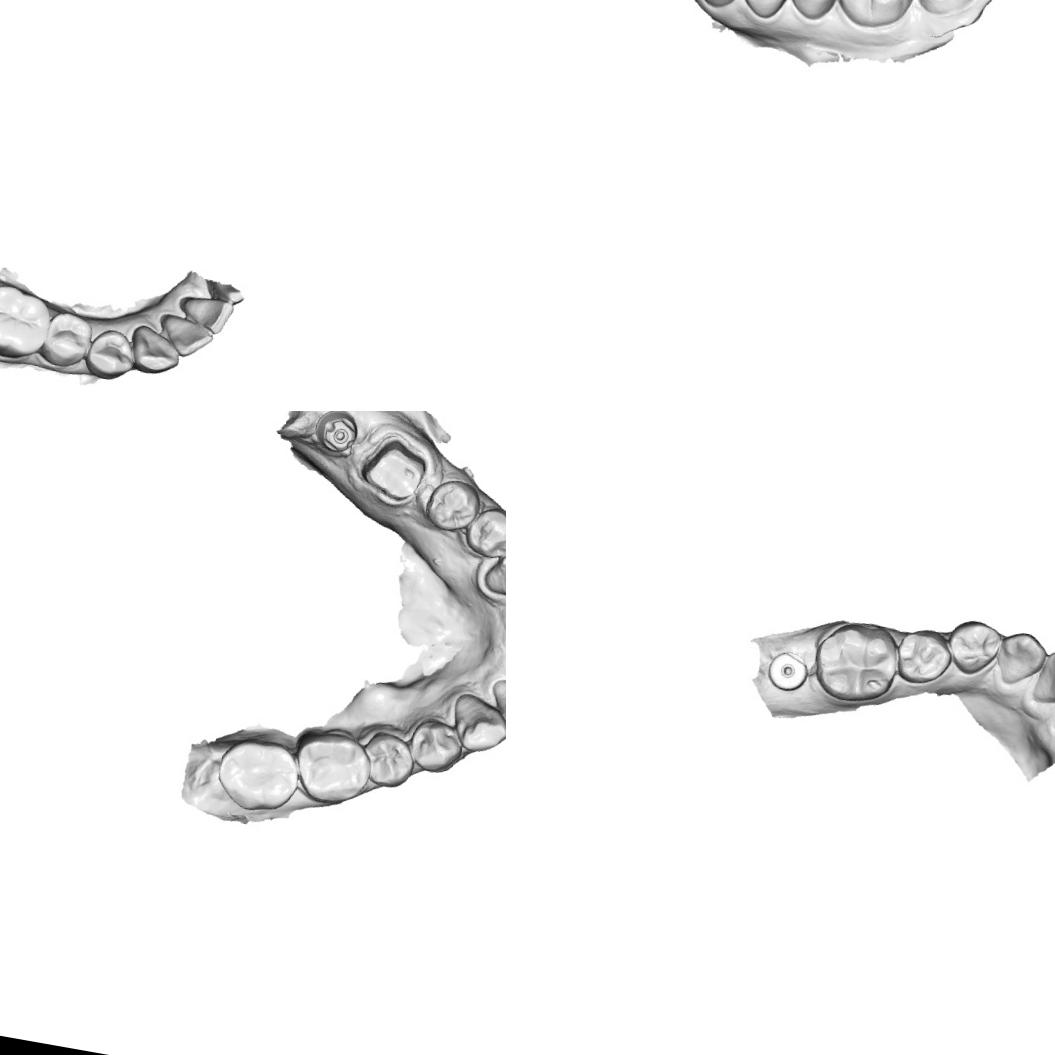canine: (445, 689, 506, 758), (991, 626, 1048, 690), (124, 321, 186, 379), (480, 541, 506, 603), (688, 0, 748, 11)
implant: (309, 411, 362, 458), (764, 646, 811, 694)
incisor: (153, 310, 218, 363), (175, 291, 236, 338), (1029, 646, 1055, 707), (483, 676, 506, 738)
molar: (808, 615, 905, 709), (210, 731, 306, 819), (285, 725, 376, 810), (0, 278, 56, 365), (831, 0, 920, 34), (905, 0, 987, 21)
premolar: (891, 623, 955, 688), (942, 614, 1004, 680), (358, 727, 420, 792), (420, 473, 484, 535), (404, 714, 467, 776), (38, 306, 94, 372), (82, 323, 138, 384), (461, 500, 506, 562), (784, 0, 843, 24), (734, 0, 795, 22)
